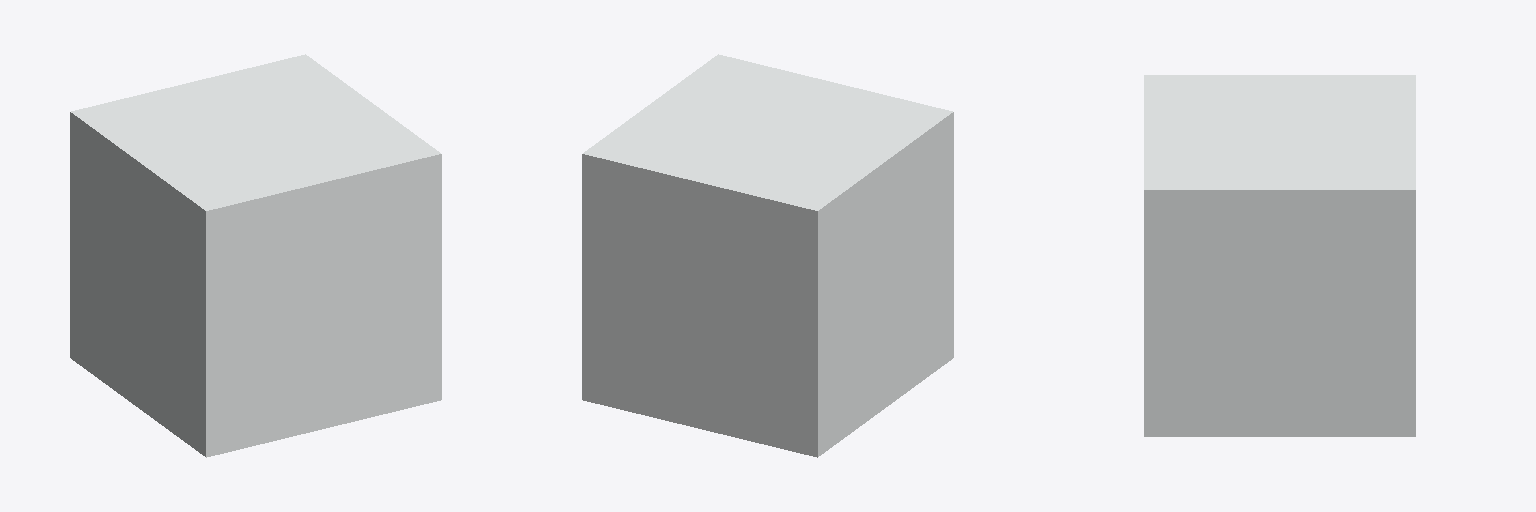
3 views of the same model, side by side, from view 1: azimuth 30°, elevation 25°; view 2: azimuth 150°, elevation 25°; view 3: azimuth 270°, elevation 25° (orthographic).
Parts seen in each view (by area): view 1: 立方体; view 2: 立方体; view 3: 立方体.
Part boxes in pixels (bbox=[...]): 立方体: bbox=[70, 54, 441, 457]; 立方体: bbox=[582, 54, 953, 457]; 立方体: bbox=[1144, 75, 1415, 436].
Size of the model in its own units: 2 by 2 by 2.
Materials: 1 (1 with a texture image).